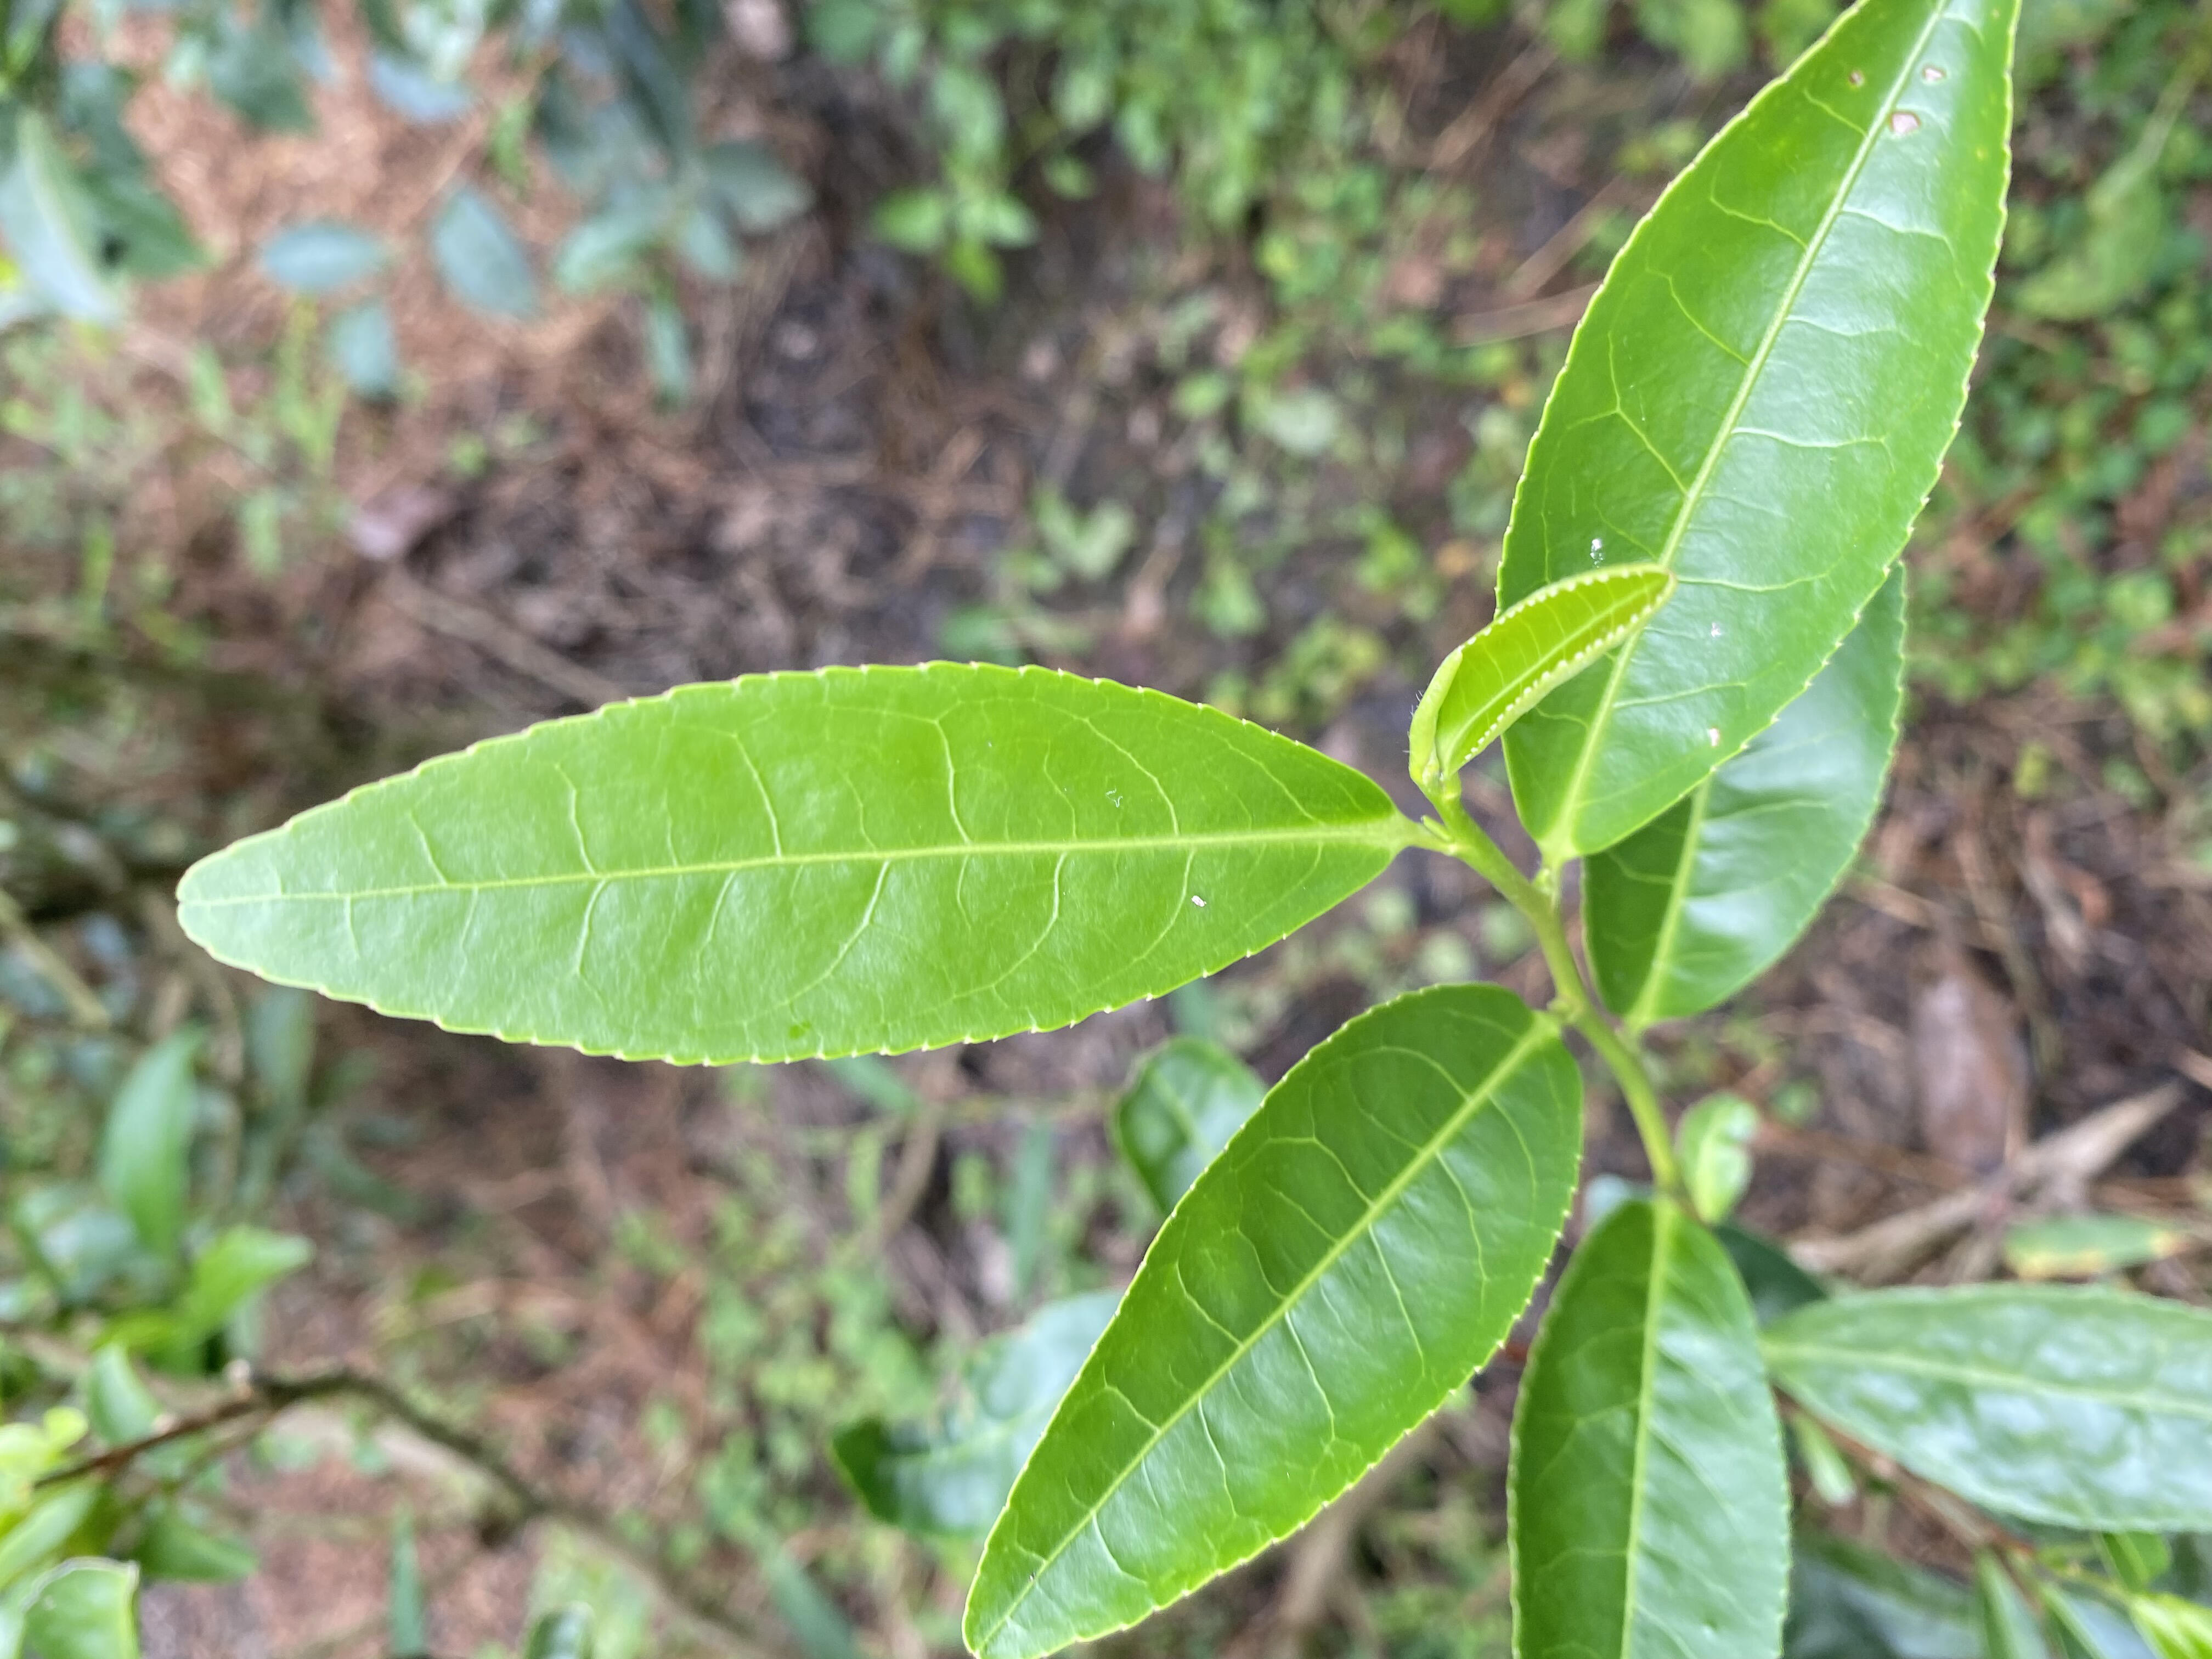healthy: (171, 657, 1393, 1068), (963, 983, 1581, 1657), (1503, 1195, 1799, 1656)
tanju_low: (1493, 3, 2022, 864)
